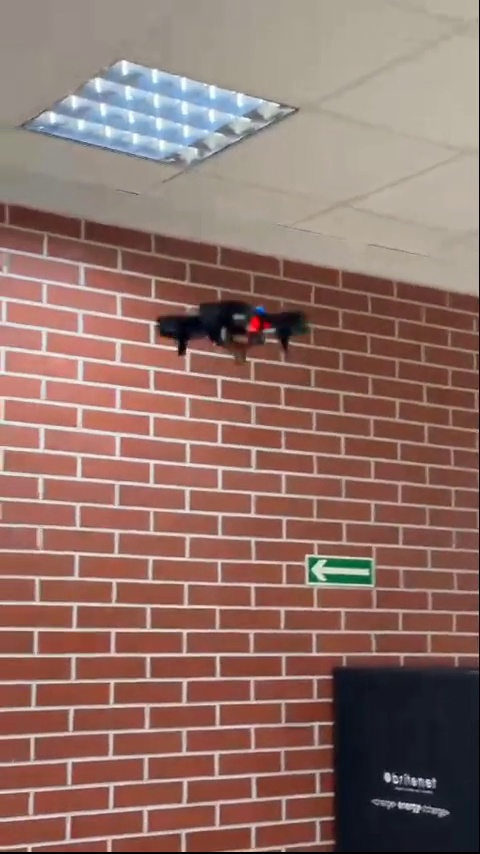drone: (152, 295, 316, 370)
